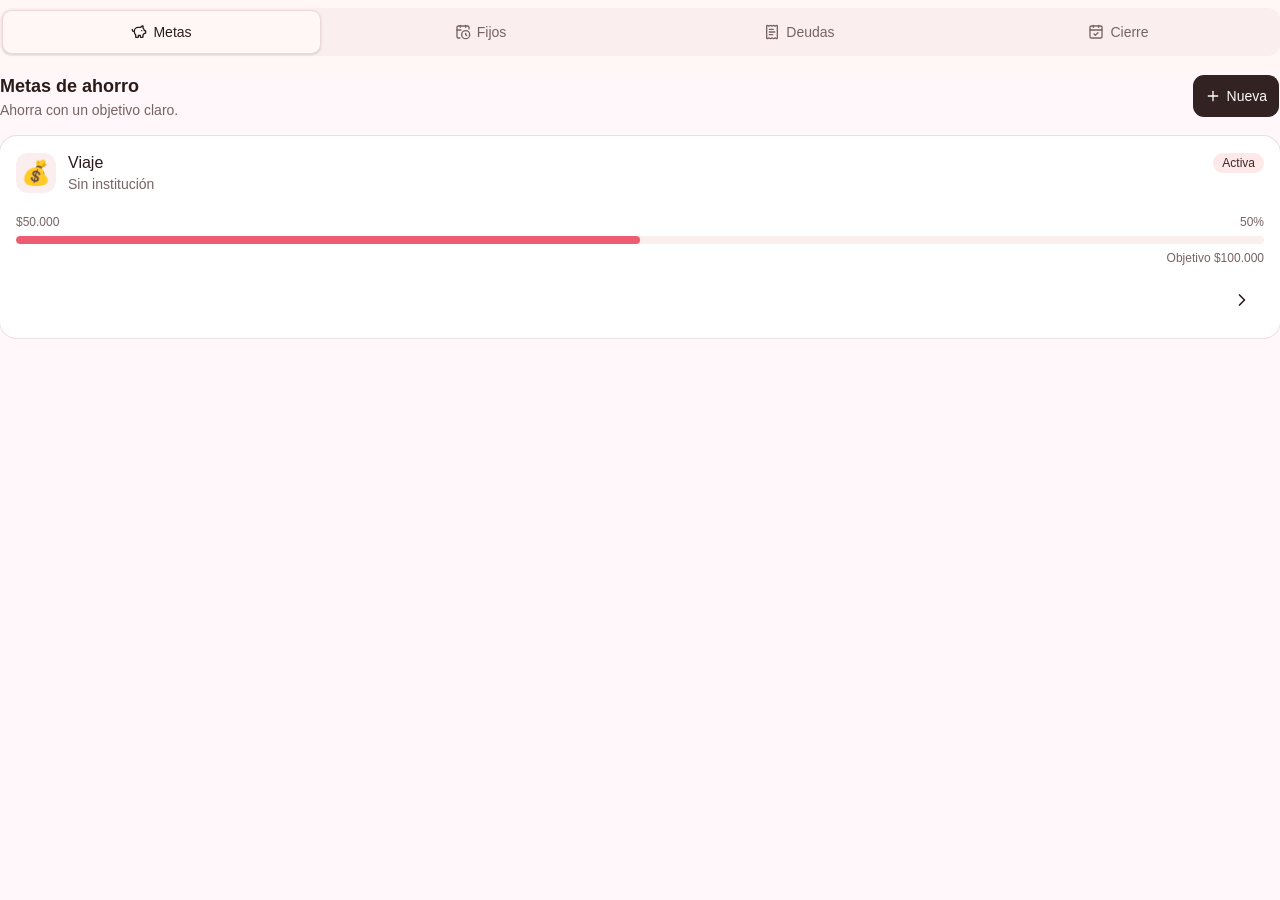
PlanningPage › does not offer savings edit or void actions for voided, transfer, or closed-period history
Expected: the text "Viaje" is shown, left=68, top=154, right=103, bottom=171
Click the button named "Ver detalle de Viaje" at (1242, 300), box left=1220, top=278, right=1264, bottom=322
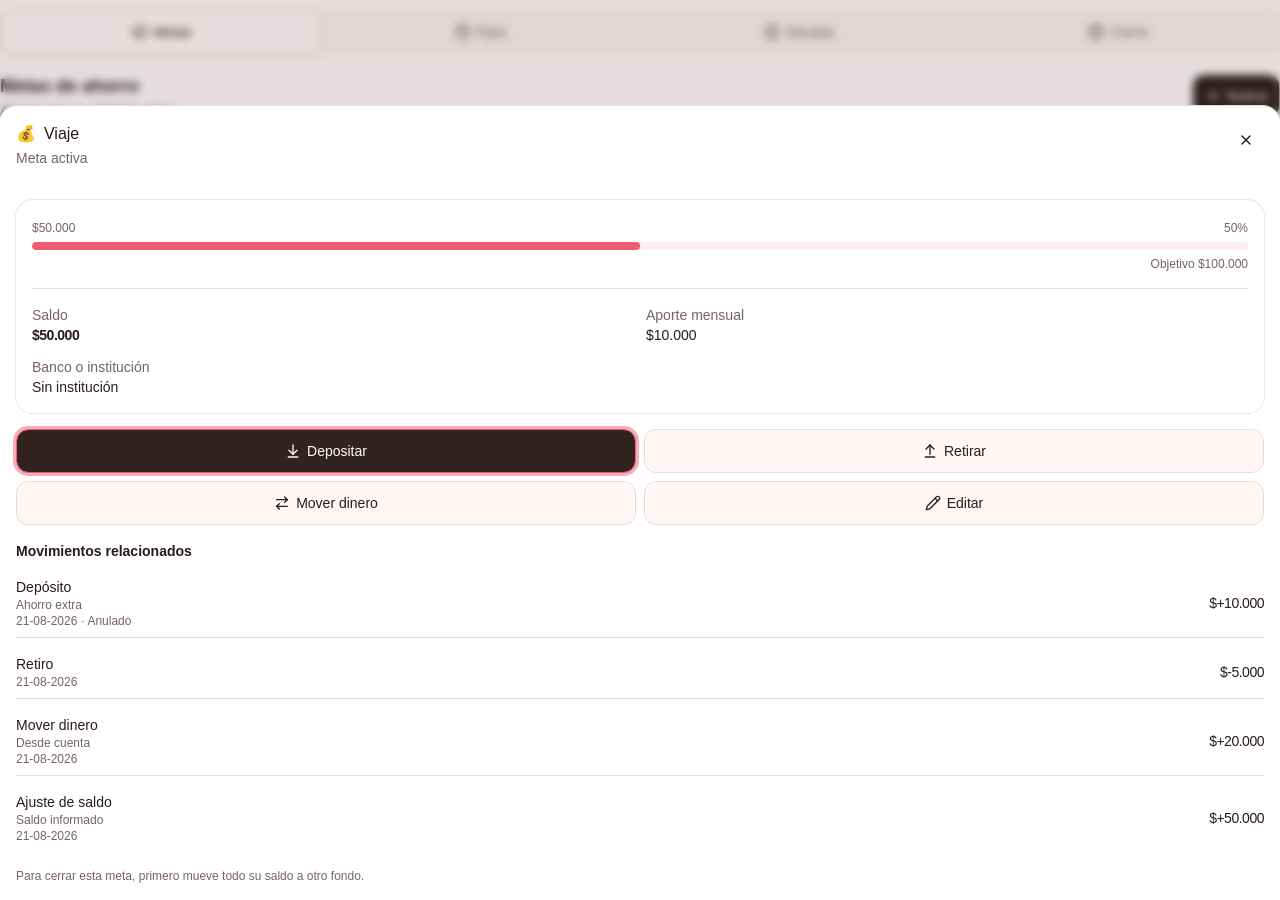
Now the text "21-08-2026 · Anulado" is shown, box left=16, top=613, right=131, bottom=629
